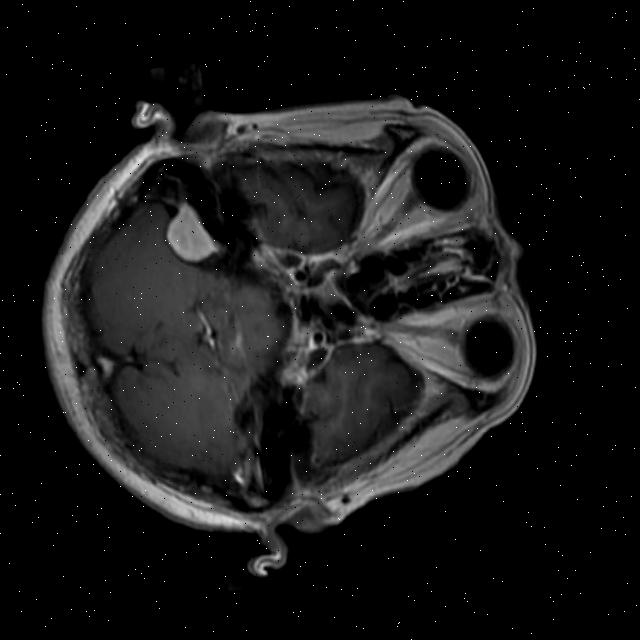Meningioma: (158, 195, 225, 270)
